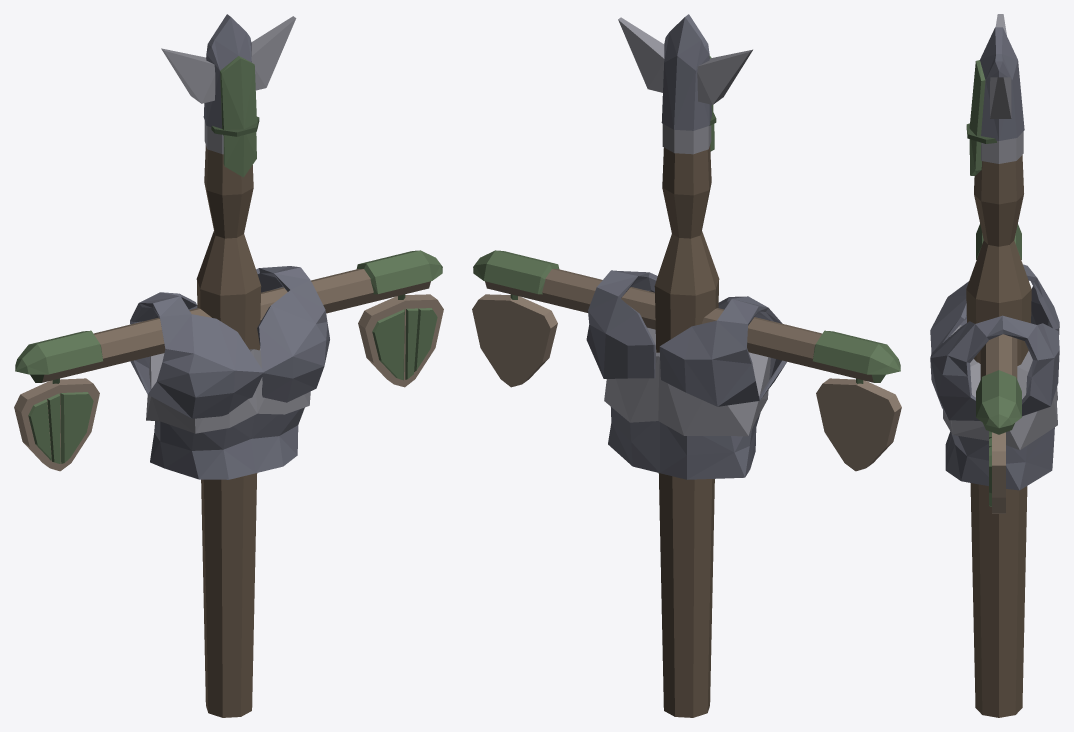
File: _TARGET_1.fbx
3 views of the same model, side by side, from view 1: azimuth 30°, elevation 25°; view 2: azimuth 150°, elevation 25°; view 3: azimuth 270°, elevation 25° (orthographic).
Parts seen in each view (by area): view 1: TARGET_1; view 2: TARGET_1; view 3: TARGET_1.
Boxes of the visible parts, x1=… form: TARGET_1: x1=14, y1=14, x2=443, y2=717; TARGET_1: x1=472, y1=14, x2=901, y2=717; TARGET_1: x1=930, y1=14, x2=1059, y2=717.
Bounding box in the file's own units: 140 × 216 × 37.28.
